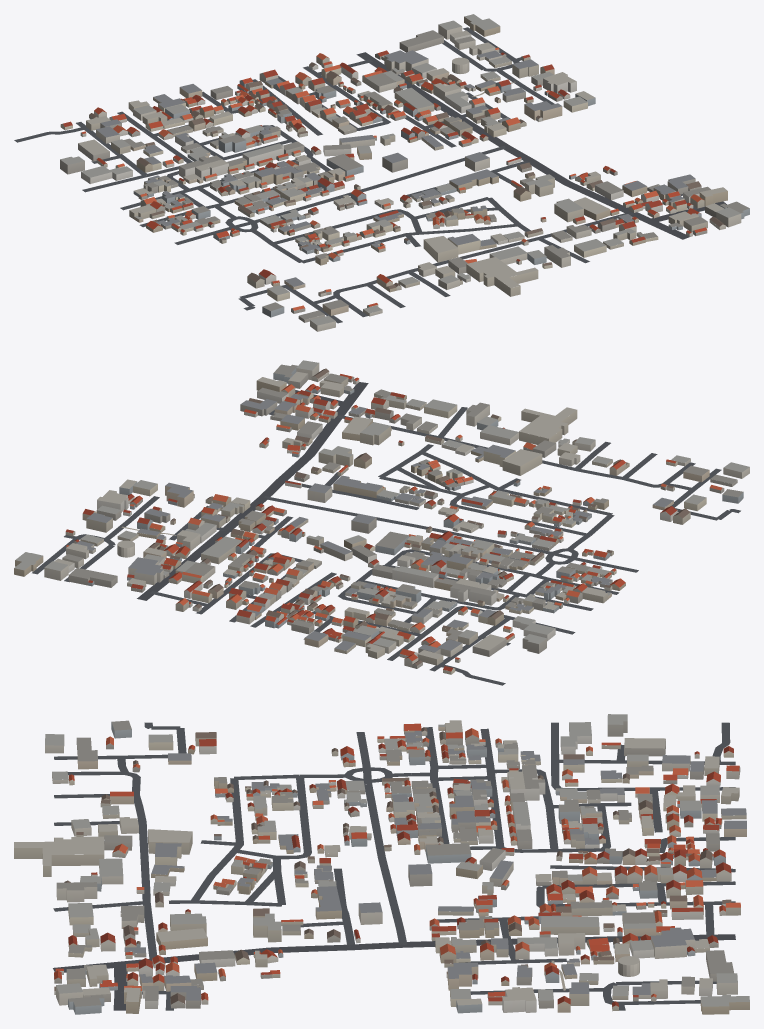
The picture shows the model from 3 angles, top to bottom: view 1: azimuth 30°, elevation 25°; view 2: azimuth 150°, elevation 25°; view 3: azimuth 270°, elevation 25°; orthographic projection. The views are drawn at different scales.
Parts seen in each view (by area): view 1: buildings_roofs, buildings_walls, roads; view 2: buildings_roofs, buildings_walls, roads; view 3: buildings_roofs, buildings_walls, roads.
Boxes of the visible parts, x1=… form: buildings_roofs: x1=60, y1=14, x2=749, y2=325; buildings_walls: x1=60, y1=16, x2=749, y2=331; roads: x1=14, y1=27, x2=726, y2=323; buildings_roofs: x1=14, y1=360, x2=749, y2=671; buildings_walls: x1=14, y1=363, x2=749, y2=674; roads: x1=32, y1=382, x2=740, y2=685; buildings_roofs: x1=14, y1=714, x2=749, y2=1006; buildings_walls: x1=14, y1=721, x2=749, y2=1014; roads: x1=53, y1=722, x2=735, y2=1010.
Size of the model in its own units: 507 by 9.82 by 540.
